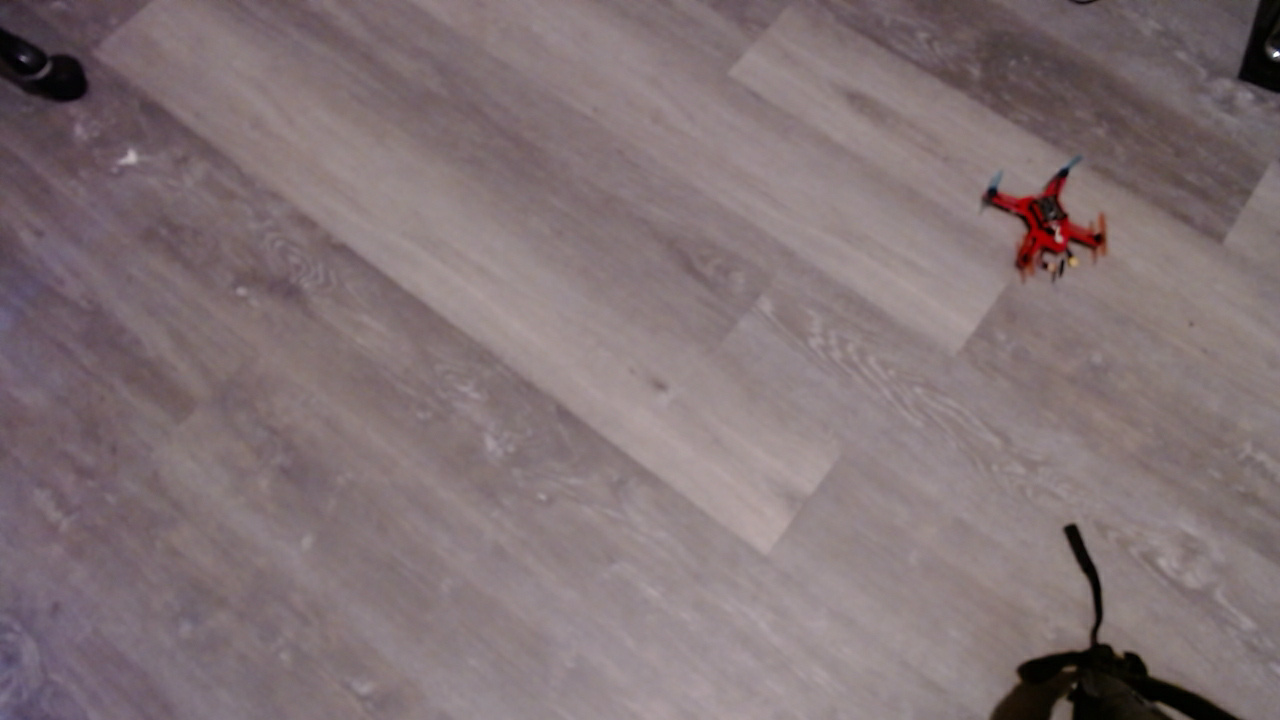crazyflie: (983, 155, 1123, 290)
